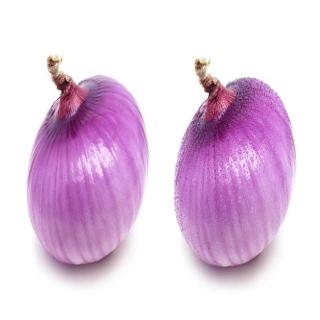Bawang Merah: (26, 55, 152, 268), (171, 56, 297, 269)
